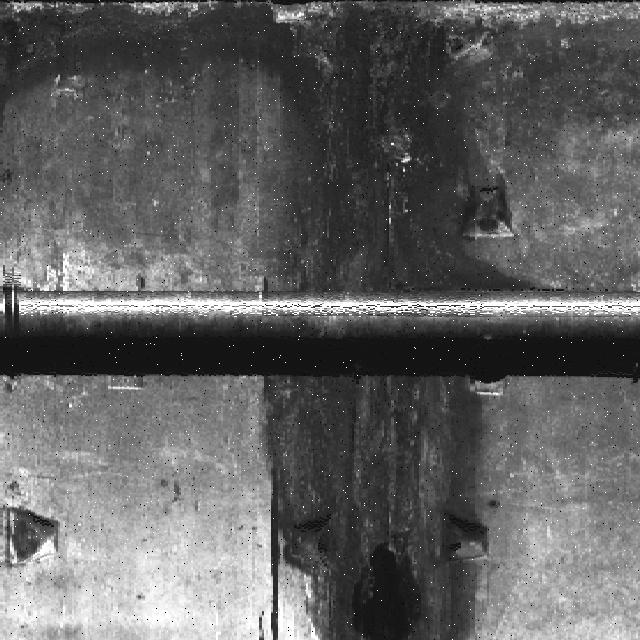leakage: (243, 13, 536, 293), (256, 369, 512, 639), (1, 3, 237, 107), (545, 15, 640, 145)
